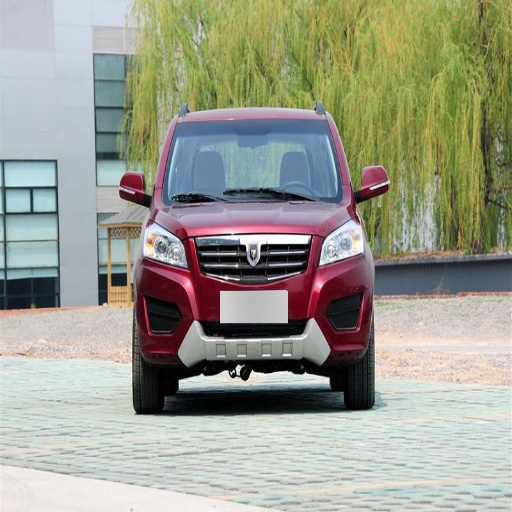front_bumper: (136, 236, 372, 375)
front_right_light: (145, 225, 190, 270)
hood: (153, 201, 355, 237)
